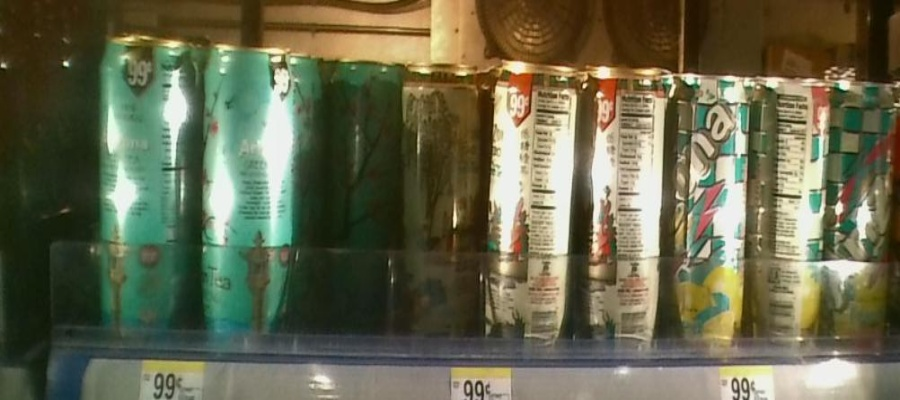bottle: (93, 16, 200, 347), (204, 21, 298, 364), (482, 39, 579, 355), (666, 47, 754, 365), (585, 31, 665, 361), (397, 46, 481, 344), (754, 51, 831, 345), (325, 40, 397, 337), (832, 52, 899, 364)
